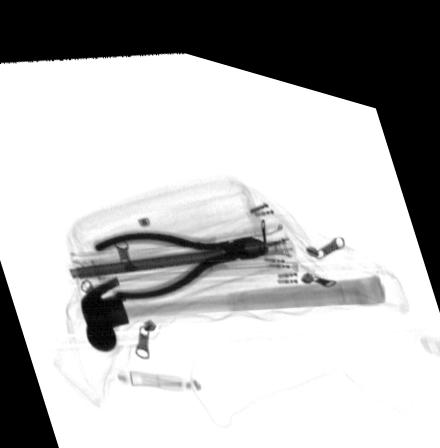Hammer: (80, 252, 385, 346)
Pliers: (92, 220, 269, 297)
